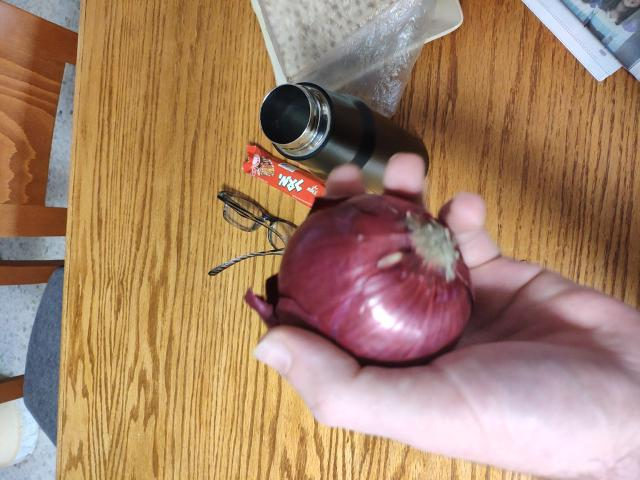onion: (283, 205, 427, 346)
